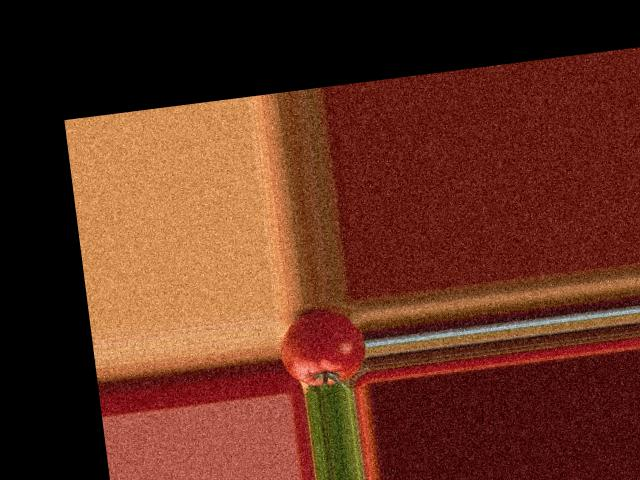tomato: (276, 306, 368, 390)
